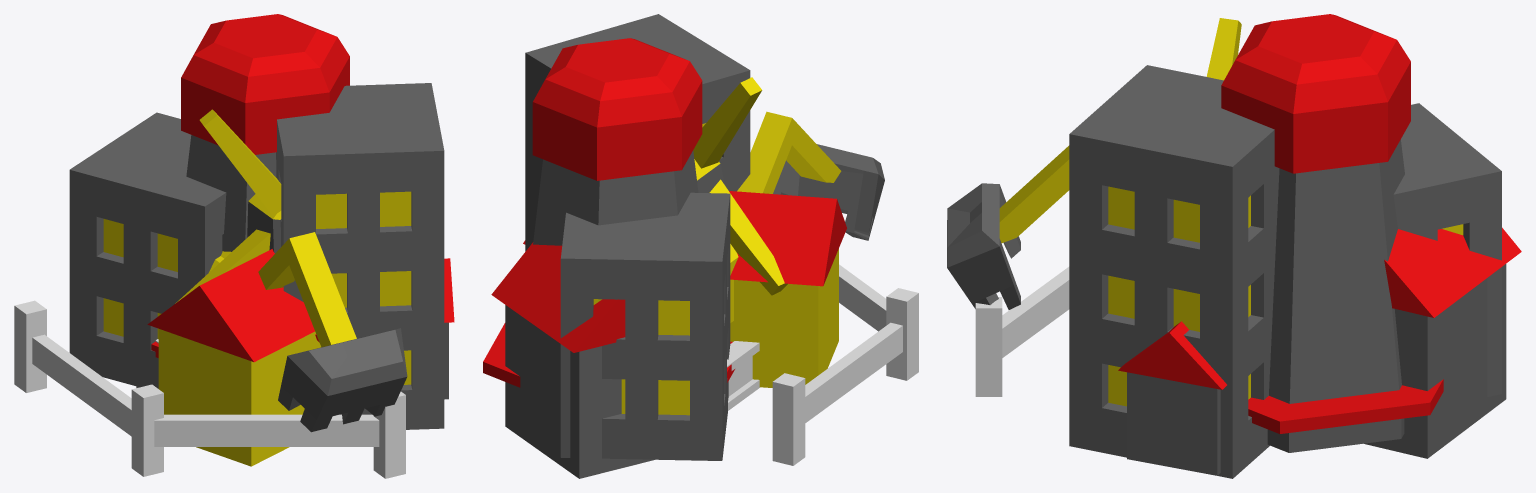
Rendered from Tiles_Cute.fbx.
3 views of the same model, side by side, from view 1: azimuth 30°, elevation 25°; view 2: azimuth 150°, elevation 25°; view 3: azimuth 270°, elevation 25° (orthographic). The views are drawn at different scales.
Visible parts, largest first — view 1: C_Building, A_Windmill, A_Houses, A_CowFence, C_ExcavatorShovel, C_ExcavatorCabin; view 2: C_Building, A_Houses, A_Windmill, A_CowFence, C_ExcavatorShovel, C_ExcavatorBas, C_ExcavatorCabin; view 3: C_Building, A_Windmill, A_Houses, C_ExcavatorShovel, A_CowFence.
Part boxes in pixels (x1,y1,x2,y2): C_Building: [69, 83, 444, 429]; A_Windmill: [151, 14, 349, 357]; A_Houses: [136, 249, 454, 466]; A_CowFence: [14, 300, 405, 478]; C_ExcavatorShovel: [258, 232, 407, 432]; C_ExcavatorCabin: [209, 194, 281, 272]; C_Building: [525, 14, 750, 460]; A_Houses: [491, 191, 846, 478]; A_Windmill: [483, 38, 787, 387]; A_CowFence: [772, 264, 918, 465]; C_ExcavatorShovel: [737, 111, 884, 240]; C_ExcavatorBas: [727, 341, 759, 410]; C_ExcavatorCabin: [694, 159, 738, 322]; C_Building: [1069, 65, 1501, 478]; A_Windmill: [1206, 14, 1443, 452]; A_Houses: [1118, 227, 1521, 475]; C_ExcavatorShovel: [947, 145, 1069, 309]; A_CowFence: [975, 266, 1069, 396].
Bounding box in the file's own units: 142 × 134 × 180.
